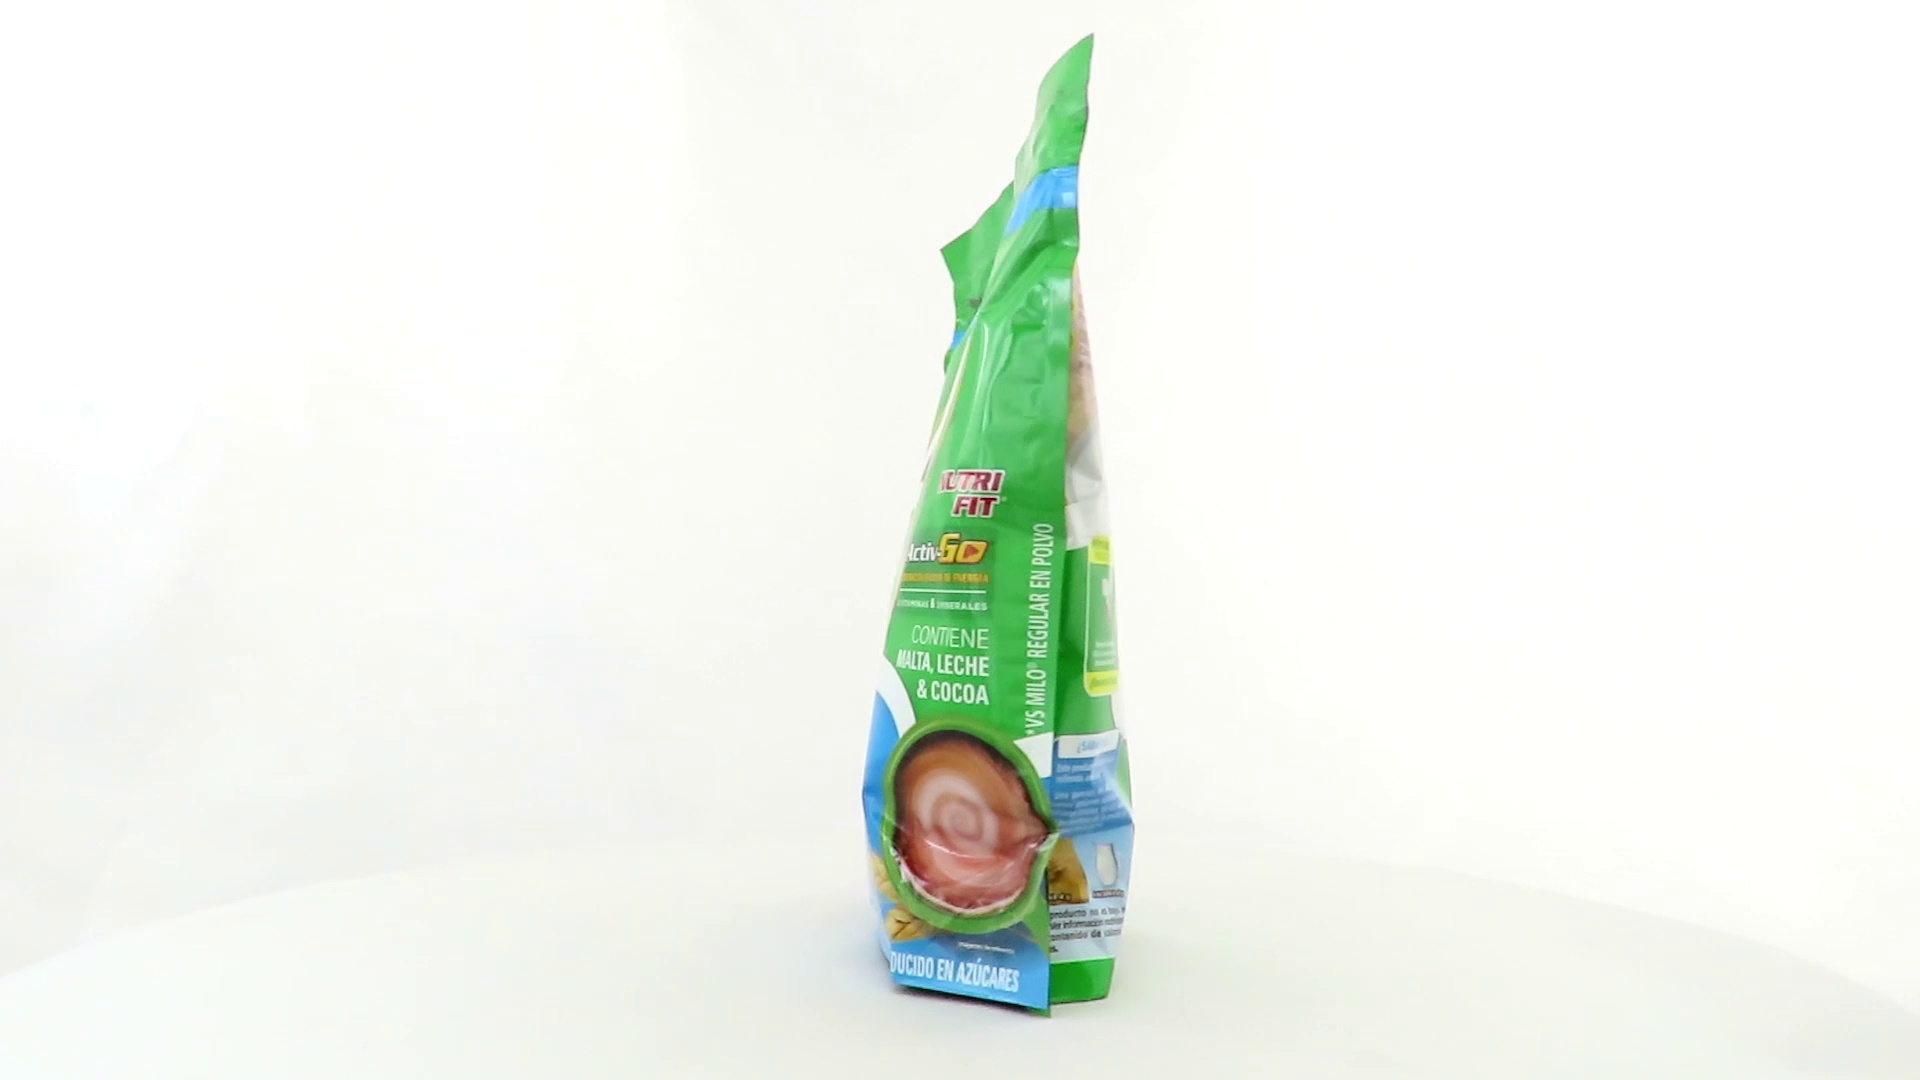COL0170205DYP50000: (857, 28, 1141, 1025)
